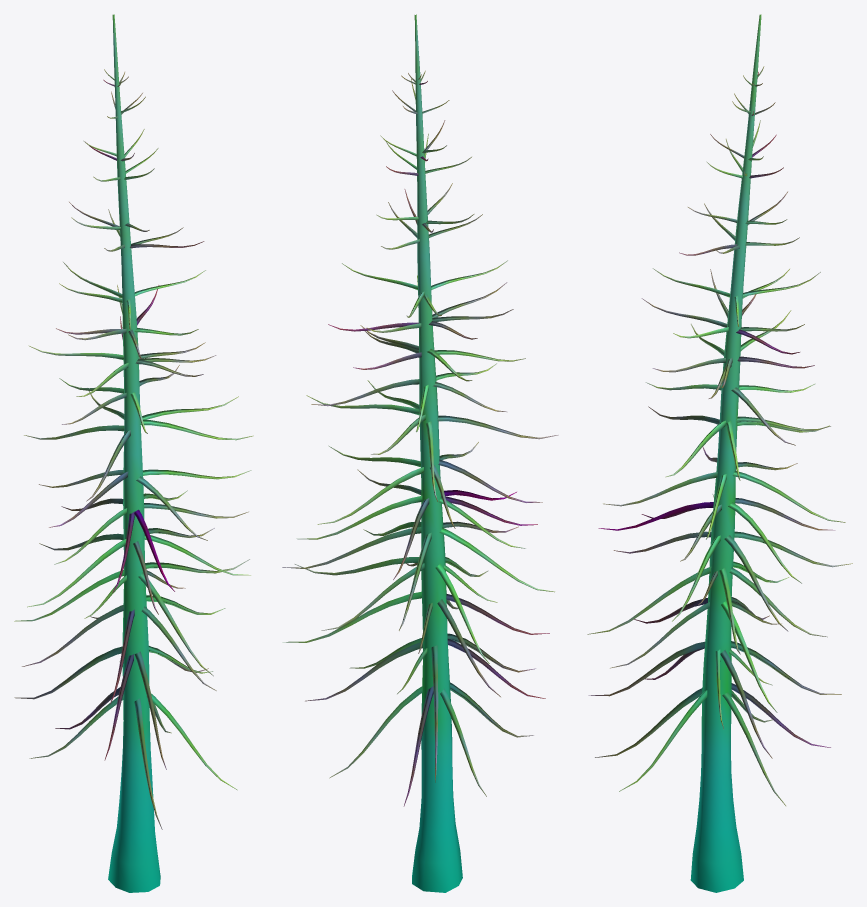
The model's file is spruce-grove-b.glb.
3 renders of one model, left to right at view 1: azimuth 30°, elevation 25°; view 2: azimuth 150°, elevation 25°; view 3: azimuth 270°, elevation 25°, orthographic. The views are drawn at different scales.
Visible parts, largest first — view 1: bark; view 2: bark; view 3: bark.
Boxes of the visible parts, x1,y1,x2,y2 form: bark: [14, 14, 253, 892]; bark: [282, 14, 558, 892]; bark: [587, 14, 852, 892].
Bounding box in the file's own units: 5.96 × 20.42 × 5.67.
